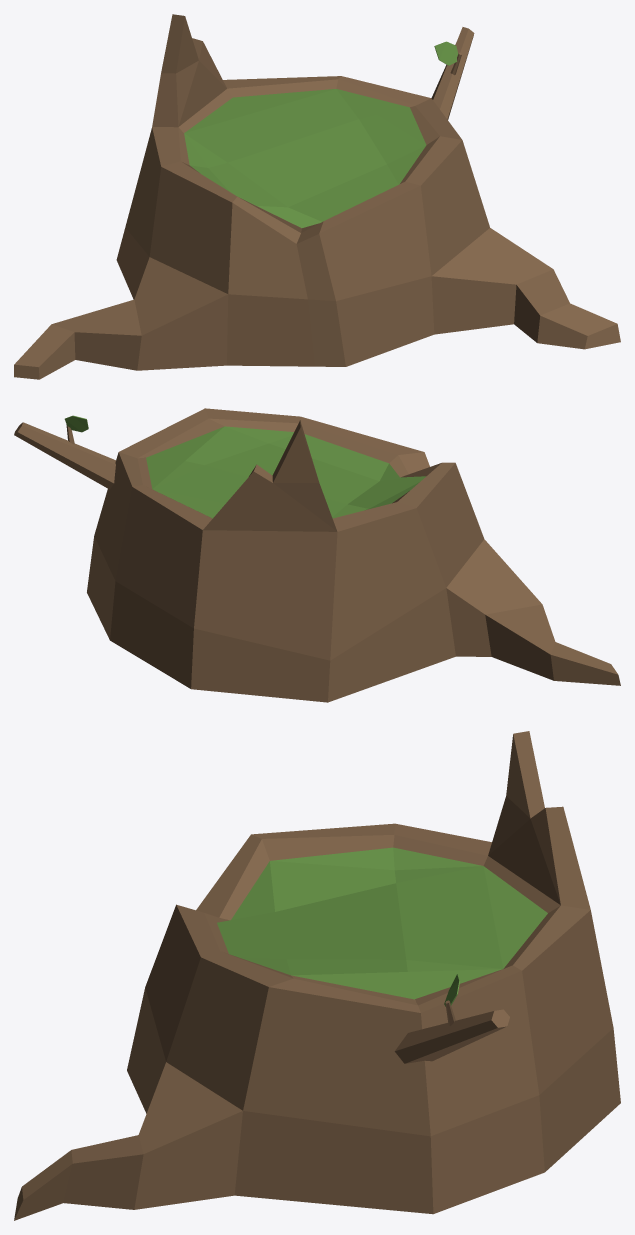
Rendered from wood_treestump_moss.glb.
3 renders of one model, top to bottom at view 1: azimuth 30°, elevation 25°; view 2: azimuth 150°, elevation 25°; view 3: azimuth 270°, elevation 25°, orthographic. The views are drawn at different scales.
Visible parts, largest first — view 1: TreeStump_Moss_Cylinder.010; view 2: TreeStump_Moss_Cylinder.010; view 3: TreeStump_Moss_Cylinder.010.
Part boxes in pixels (x1=…): TreeStump_Moss_Cylinder.010: x1=14, y1=14, x2=620, y2=379; TreeStump_Moss_Cylinder.010: x1=14, y1=408, x2=620, y2=702; TreeStump_Moss_Cylinder.010: x1=14, y1=731, x2=620, y2=1220.
Size of the model in its own units: 1.75 by 0.8 by 1.33.
